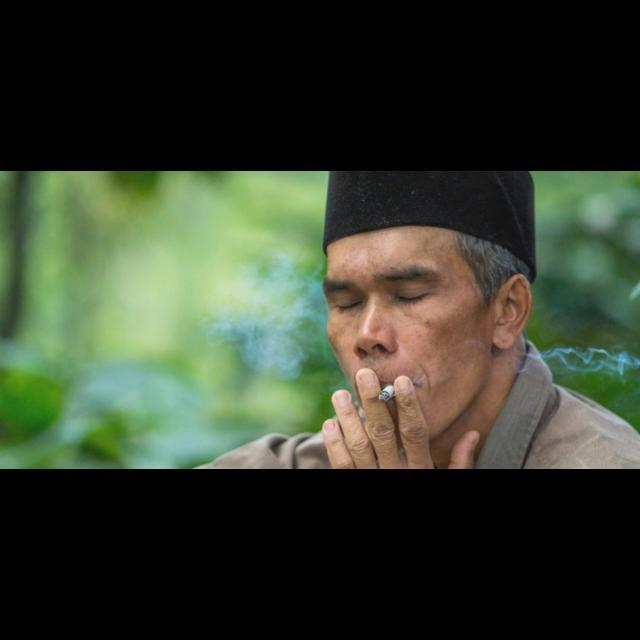rokok: (375, 383, 401, 405)
